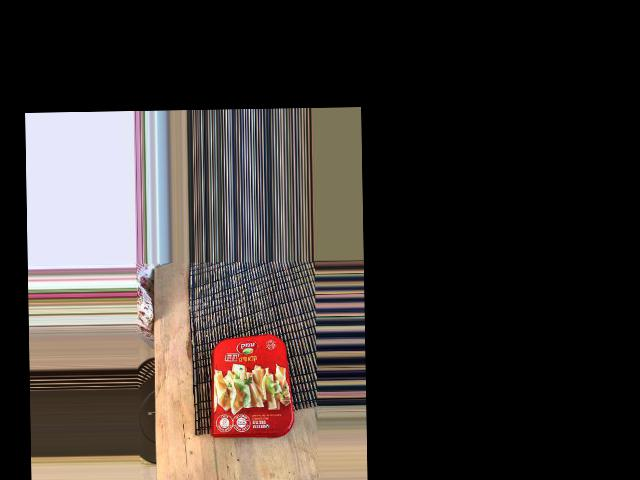cheese: (212, 329, 290, 446)
